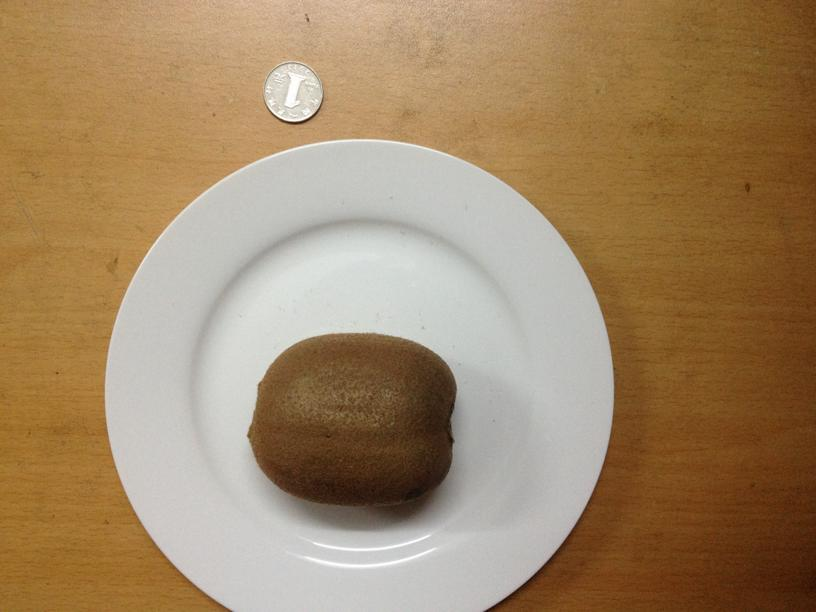coin: (261, 61, 324, 123)
qiwi: (241, 335, 458, 507)
